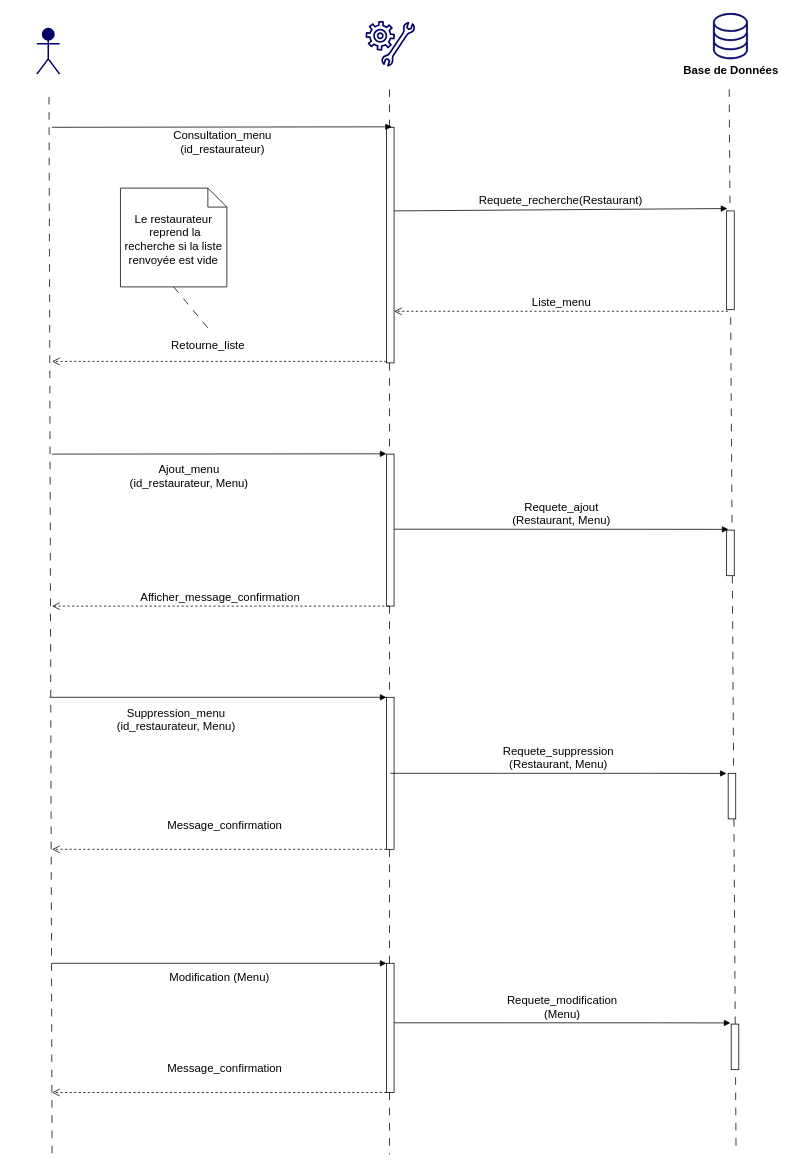
Image size: 791x1169. Some labels were removed from this diagram. Each missing label, with the box of its shape:
API: (365, 21, 415, 66)
Restaurateur: (36, 27, 60, 74)
